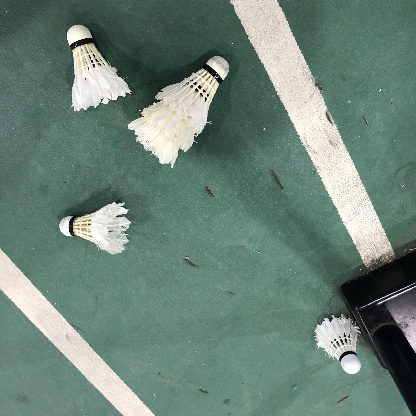ball_single: (128, 56, 229, 168), (67, 25, 131, 112), (59, 202, 131, 255), (315, 314, 361, 374)
